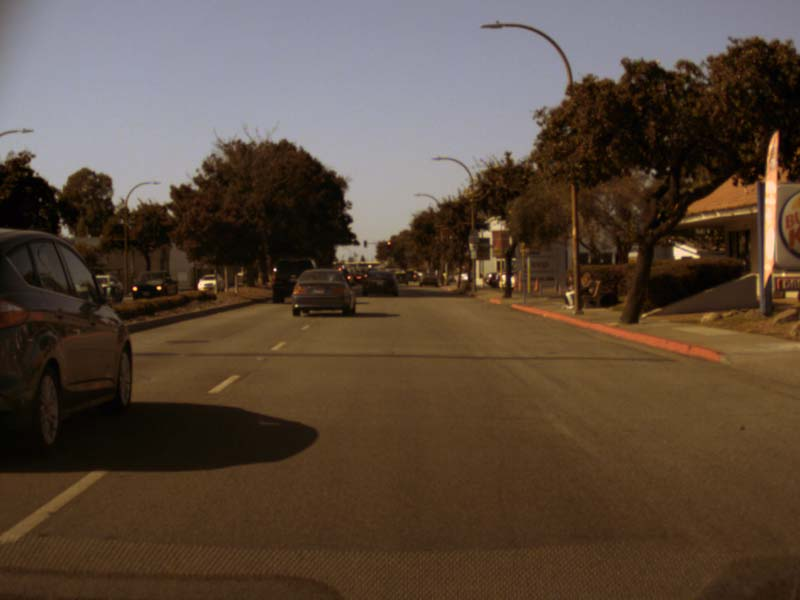Red: (387, 240, 391, 247)
